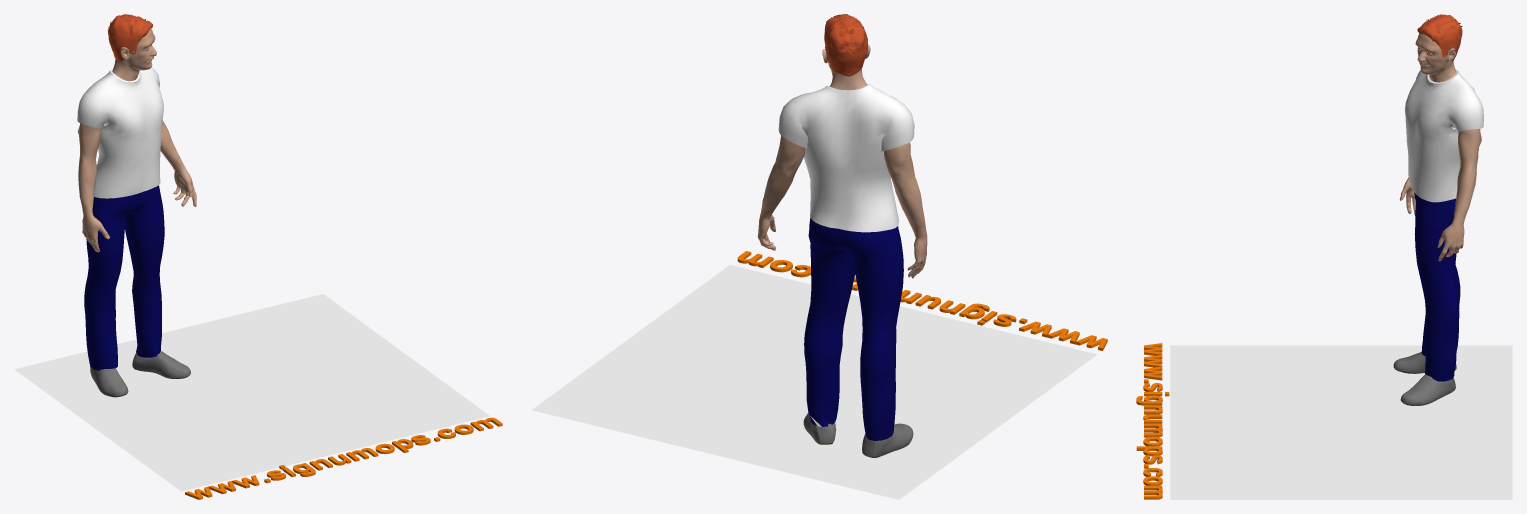
3 views of the same model, side by side, from view 1: azimuth 30°, elevation 25°; view 2: azimuth 150°, elevation 25°; view 3: azimuth 270°, elevation 25° (orthographic). The views are drawn at different scales.
Visible parts, largest first — view 1: image_0, group_5 (×2), group_4 (×3), group_1 (×2), group_6; view 2: image_0, group_5 (×2), group_4 (×3), group_6, group_1; view 3: image_0, group_5 (×2), group_4 (×2), group_1 (×2), group_6.
Part boxes in pixels (x1,y1,x2,y2): image_0: (14,294,489,491); group_5 (×2): (77,67,164,370); group_4 (×3): (77,28,196,252); group_1 (×2): (90,351,190,397); group_6: (108,14,151,60); image_0: (531,265,1097,499); group_5 (×2): (778,84,914,440); group_4 (×3): (757,44,927,278); group_6: (824,14,867,76); group_1: (862,423,913,457); image_0: (1170,345,1512,499); group_5 (×2): (1404,68,1483,381); group_4 (×2): (1415,34,1481,261); group_1 (×2): (1393,351,1456,405); group_6: (1419,15,1462,61).
Size of the model in its own units: 63.94 by 65.77 by 71.03.
